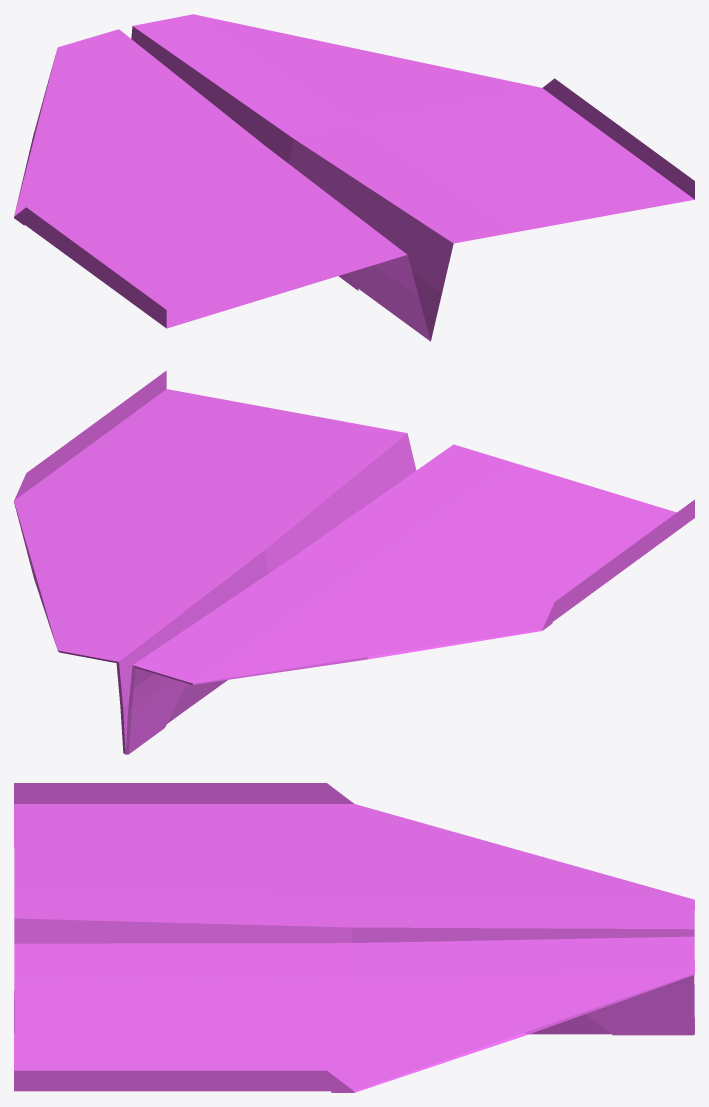
Rendered from paperplane.gltf.
3 views of the same model, one above another, from view 1: azimuth 30°, elevation 25°; view 2: azimuth 150°, elevation 25°; view 3: azimuth 270°, elevation 25° (orthographic). The views are drawn at different scales.
Visible parts, largest first — view 1: Plane; view 2: Plane; view 3: Plane.
Boxes of the visible parts, left/top/right/bottom form: Plane: left=14, top=14, right=694, bottom=341; Plane: left=14, top=370, right=694, bottom=754; Plane: left=14, top=783, right=694, bottom=1092.
Size of the model in its own units: 1.59 by 0.2843 by 1.6.
